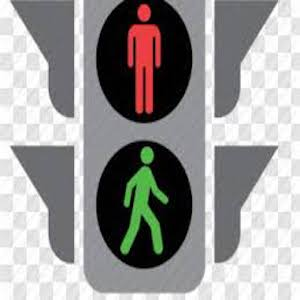green: (112, 145, 176, 261)
red: (127, 5, 168, 114)
